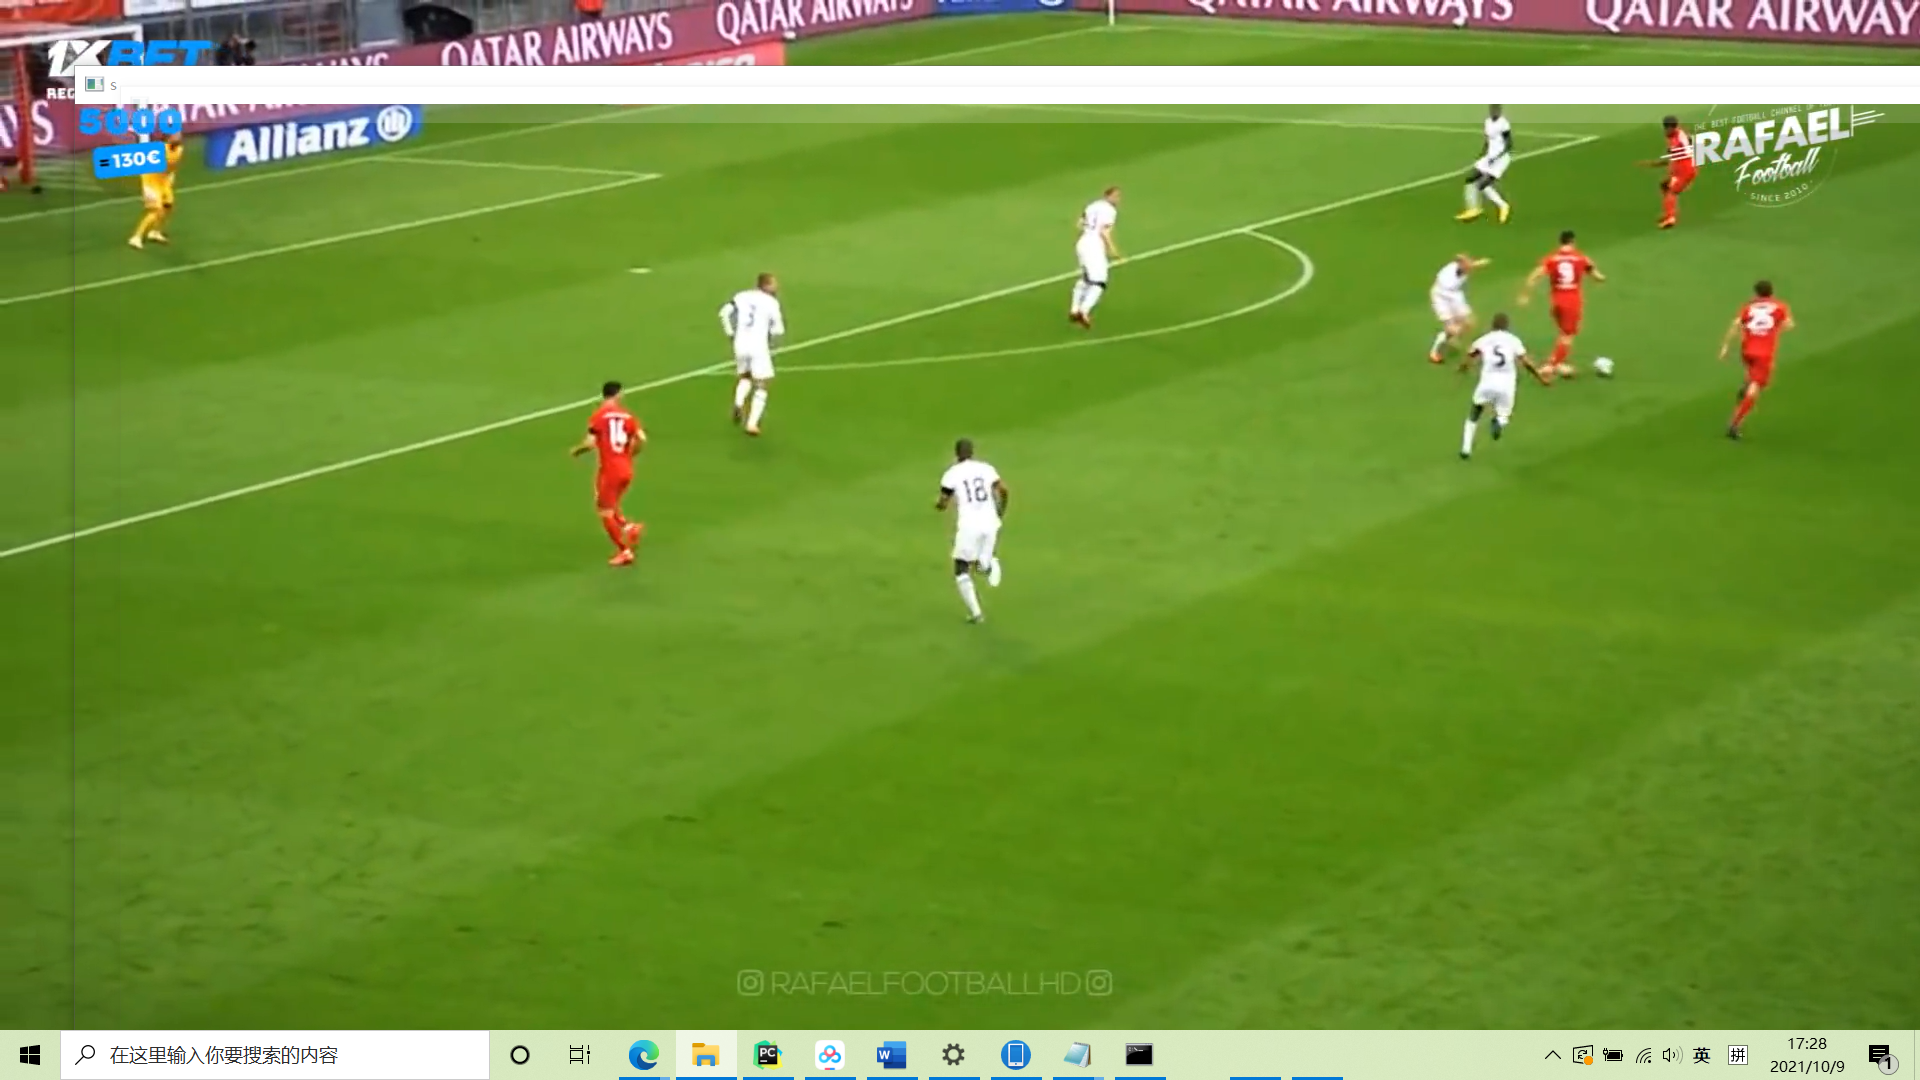ft: (1594, 357, 1615, 378)
